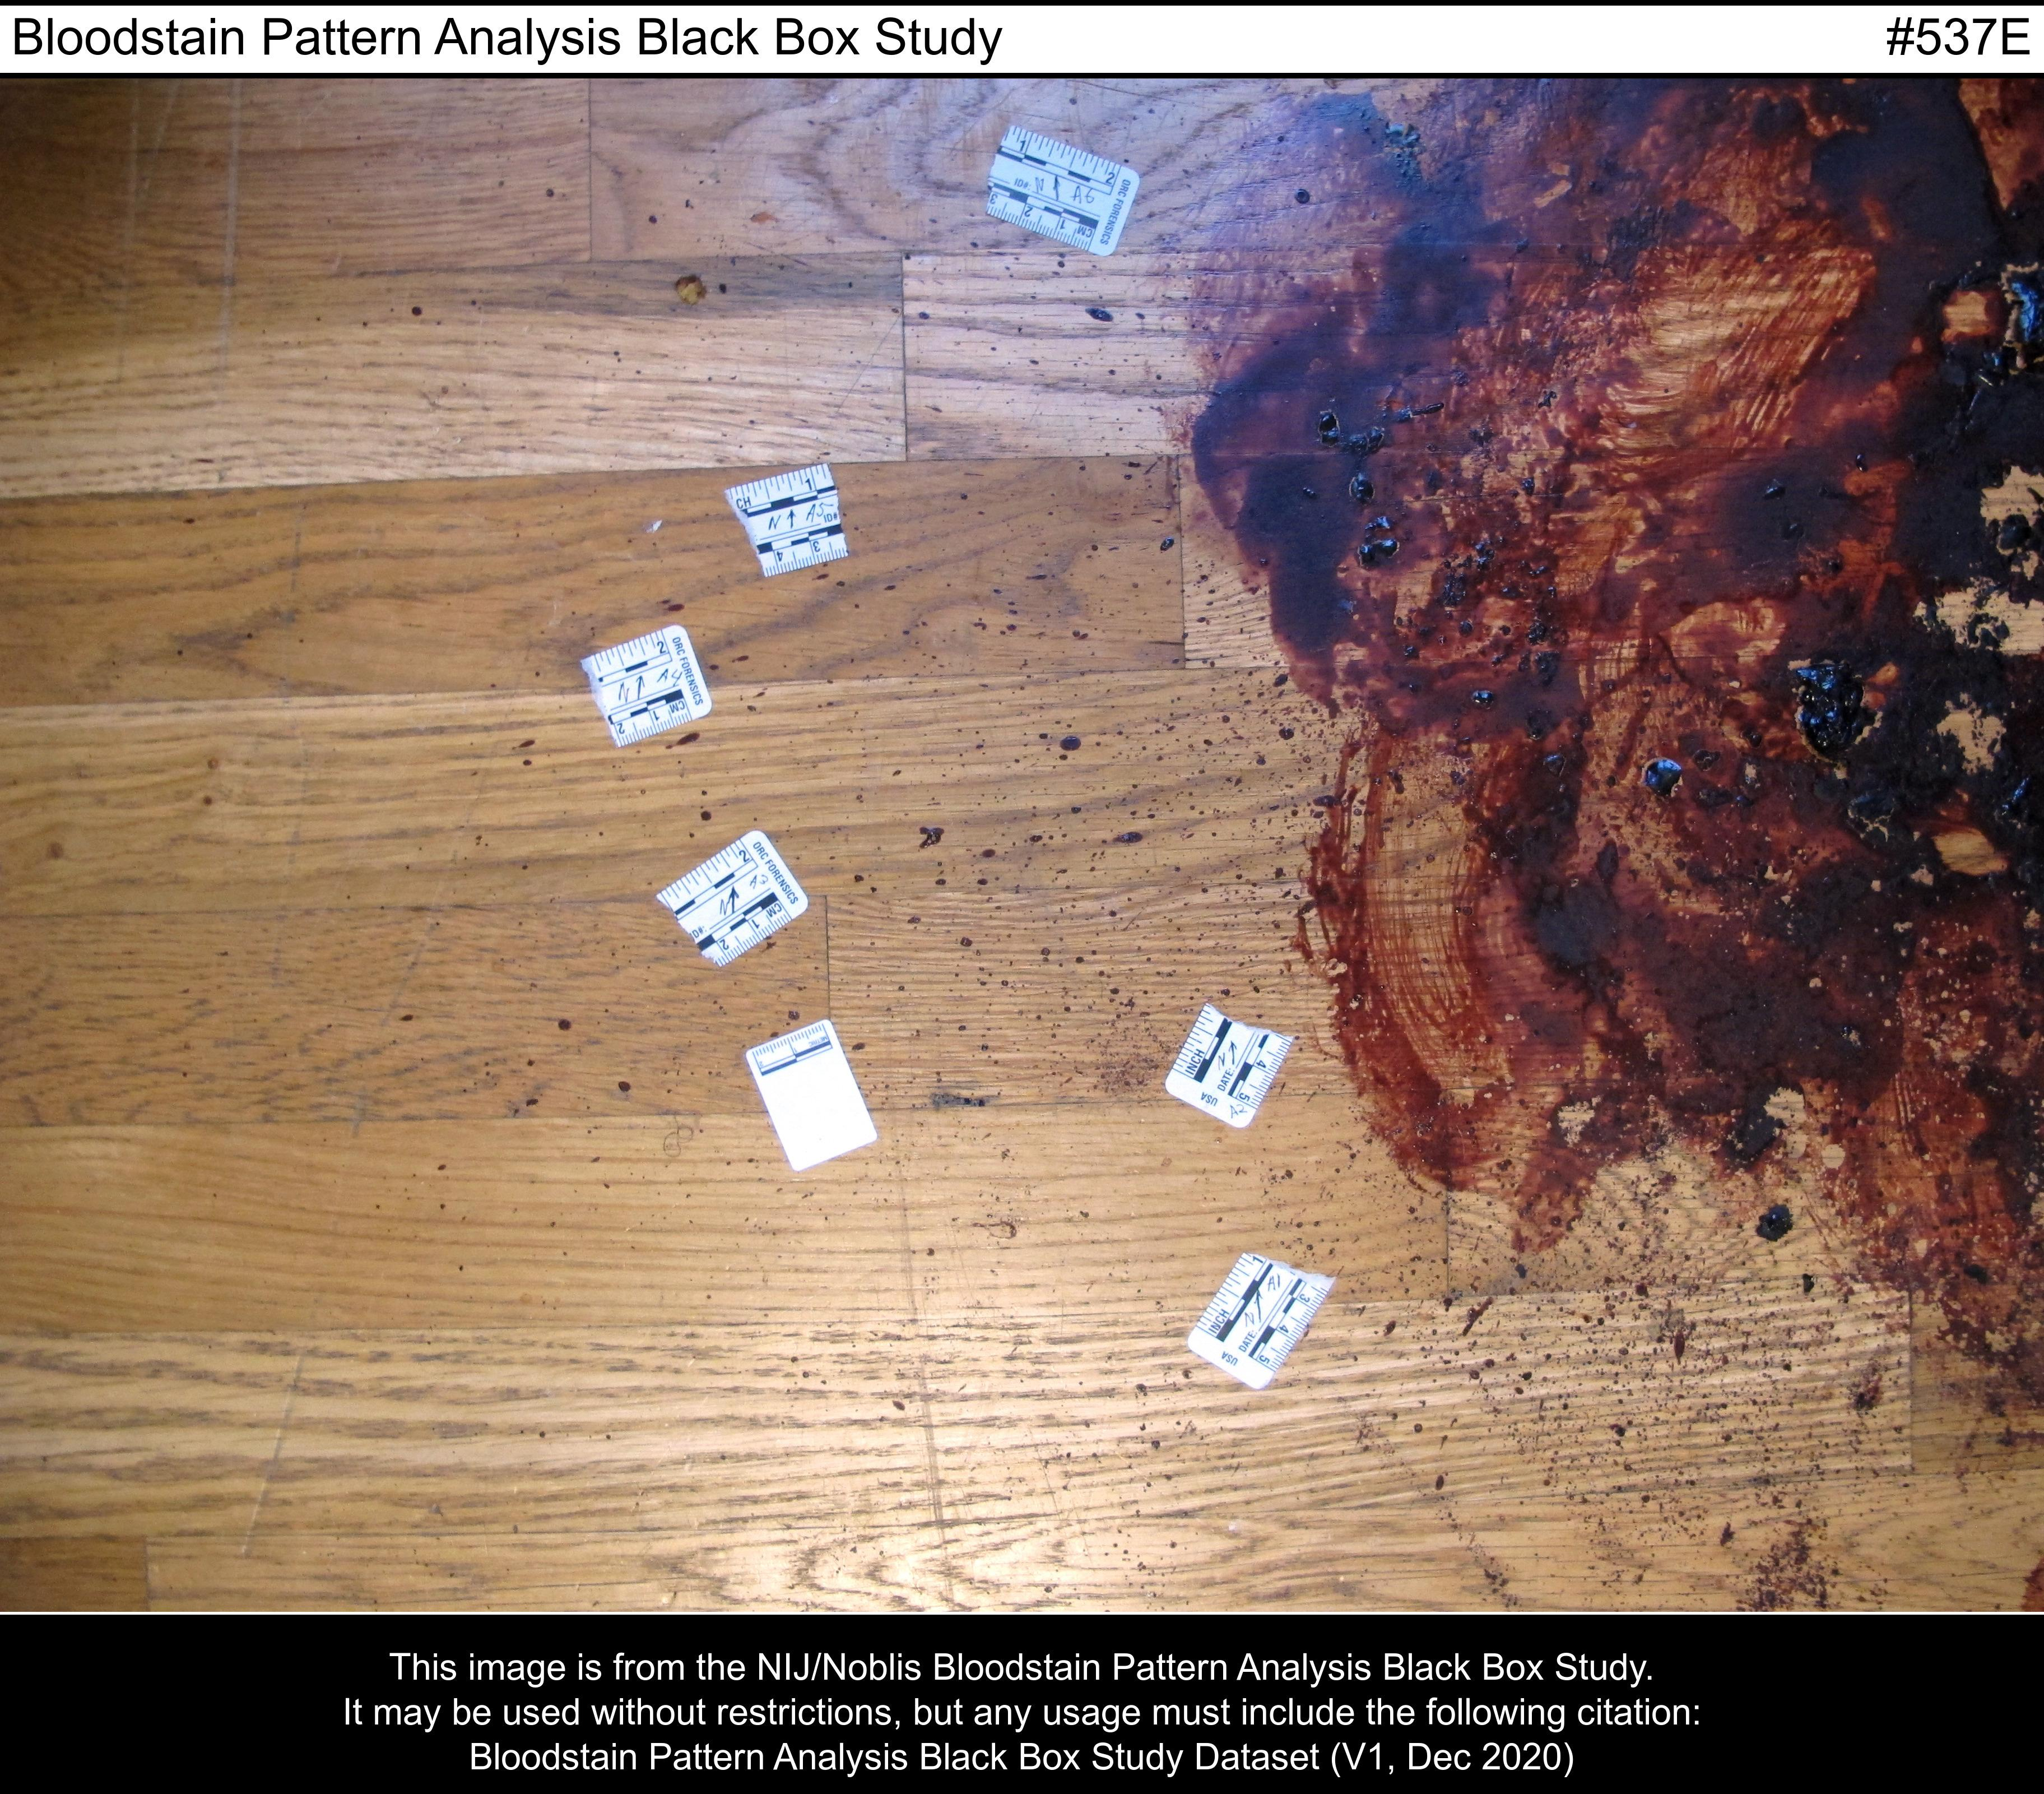Impact: (487, 162, 1131, 382), (1403, 1307, 1945, 1552), (831, 648, 1159, 1010)
Transfer: (1238, 111, 2044, 1276)
